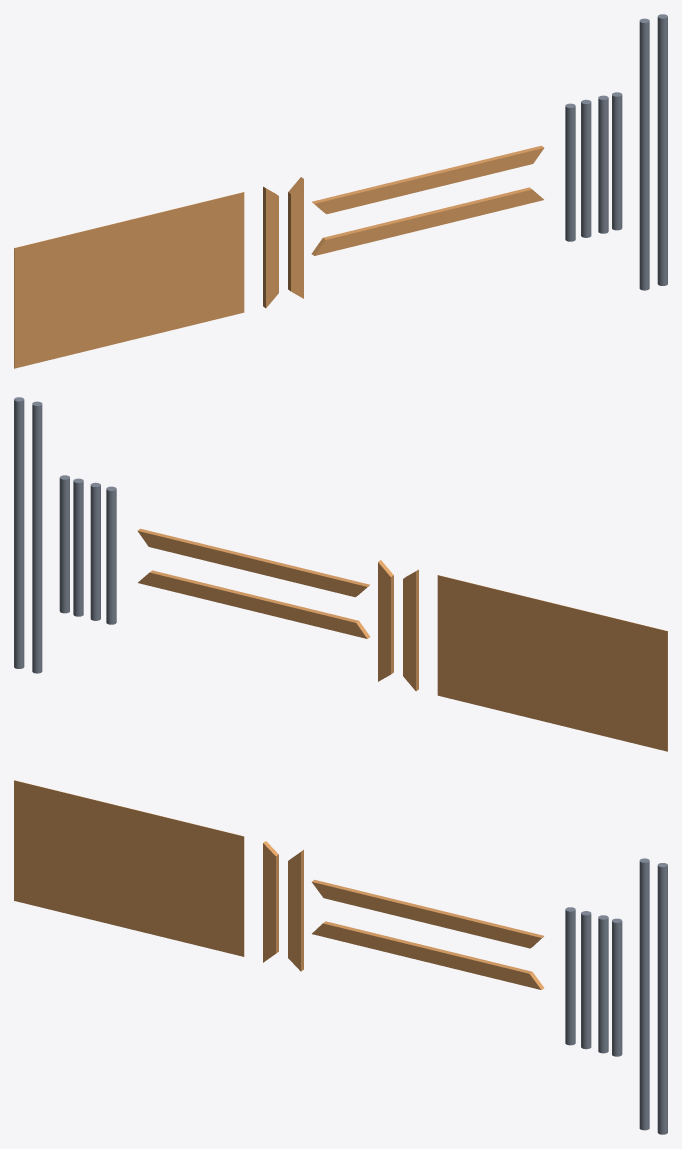
3 renders of one model, top to bottom at view 1: azimuth 30°, elevation 25°; view 2: azimuth 150°, elevation 25°; view 3: azimuth 330°, elevation 25°, orthographic.
Visible parts, largest first — view 1: 看板, 看板.004, 看板.003, 塩ビ.004, 塩ビ.005, 看板.001, 看板.002, 塩ビ.002, 塩ビ.003, 塩ビ, 塩ビ.001; view 2: 看板, 看板.004, 看板.003, 塩ビ.004, 塩ビ.005, 看板.001, 看板.002, 塩ビ.002, 塩ビ.003, 塩ビ, 塩ビ.001; view 3: 看板, 看板.003, 看板.004, 塩ビ.004, 塩ビ.005, 看板.002, 看板.001, 塩ビ.002, 塩ビ.003, 塩ビ, 塩ビ.001.
Part boxes in pixels (left/top/right/bottom): 看板: left=14, top=192, right=244, bottom=368; 看板.004: left=312, top=145, right=544, bottom=214; 看板.003: left=311, top=187, right=543, bottom=255; 塩ビ.004: left=639, top=18, right=649, bottom=290; 塩ビ.005: left=657, top=14, right=667, bottom=285; 看板.001: left=288, top=177, right=303, bottom=298; 看板.002: left=263, top=186, right=278, bottom=308; 塩ビ.002: left=565, top=103, right=575, bottom=241; 塩ビ.003: left=598, top=95, right=608, bottom=233; 塩ビ: left=612, top=92, right=622, bottom=230; 塩ビ.001: left=581, top=99, right=591, bottom=237; 看板: left=437, top=575, right=667, bottom=751; 看板.004: left=137, top=528, right=369, bottom=597; 看板.003: left=138, top=570, right=370, bottom=638; 塩ビ.004: left=32, top=401, right=42, bottom=673; 塩ビ.005: left=14, top=397, right=24, bottom=668; 看板.001: left=378, top=560, right=393, bottom=681; 看板.002: left=403, top=569, right=418, bottom=691; 塩ビ.002: left=106, top=486, right=116, bottom=624; 塩ビ.003: left=73, top=478, right=83, bottom=616; 塩ビ: left=59, top=475, right=69, bottom=613; 塩ビ.001: left=90, top=482, right=100, bottom=620; 看板: left=14, top=780, right=244, bottom=956; 看板.003: left=312, top=921, right=544, bottom=989; 看板.004: left=312, top=879, right=543, bottom=948; 塩ビ.004: left=639, top=858, right=649, bottom=1130; 塩ビ.005: left=657, top=863, right=667, bottom=1134; 看板.002: left=263, top=841, right=278, bottom=962; 看板.001: left=288, top=850, right=303, bottom=971; 塩ビ.002: left=565, top=907, right=575, bottom=1045; 塩ビ.003: left=598, top=915, right=608, bottom=1053; 塩ビ: left=612, top=918, right=622, bottom=1056; 塩ビ.001: left=581, top=911, right=591, bottom=1049.
Bounding box in the file's own units: 10.22 × 4 × 0.14.
